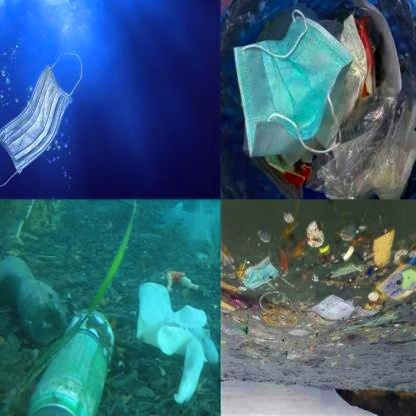Mask: (233, 11, 353, 158), (0, 53, 82, 189), (242, 258, 280, 290)
glove: (136, 283, 219, 405)
